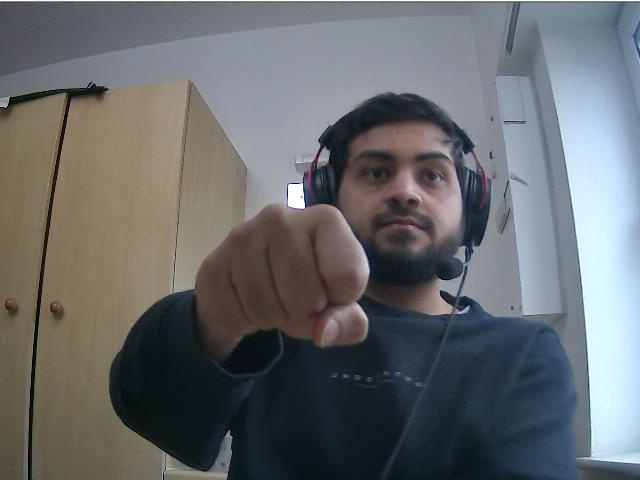hold: (197, 204, 373, 350)
